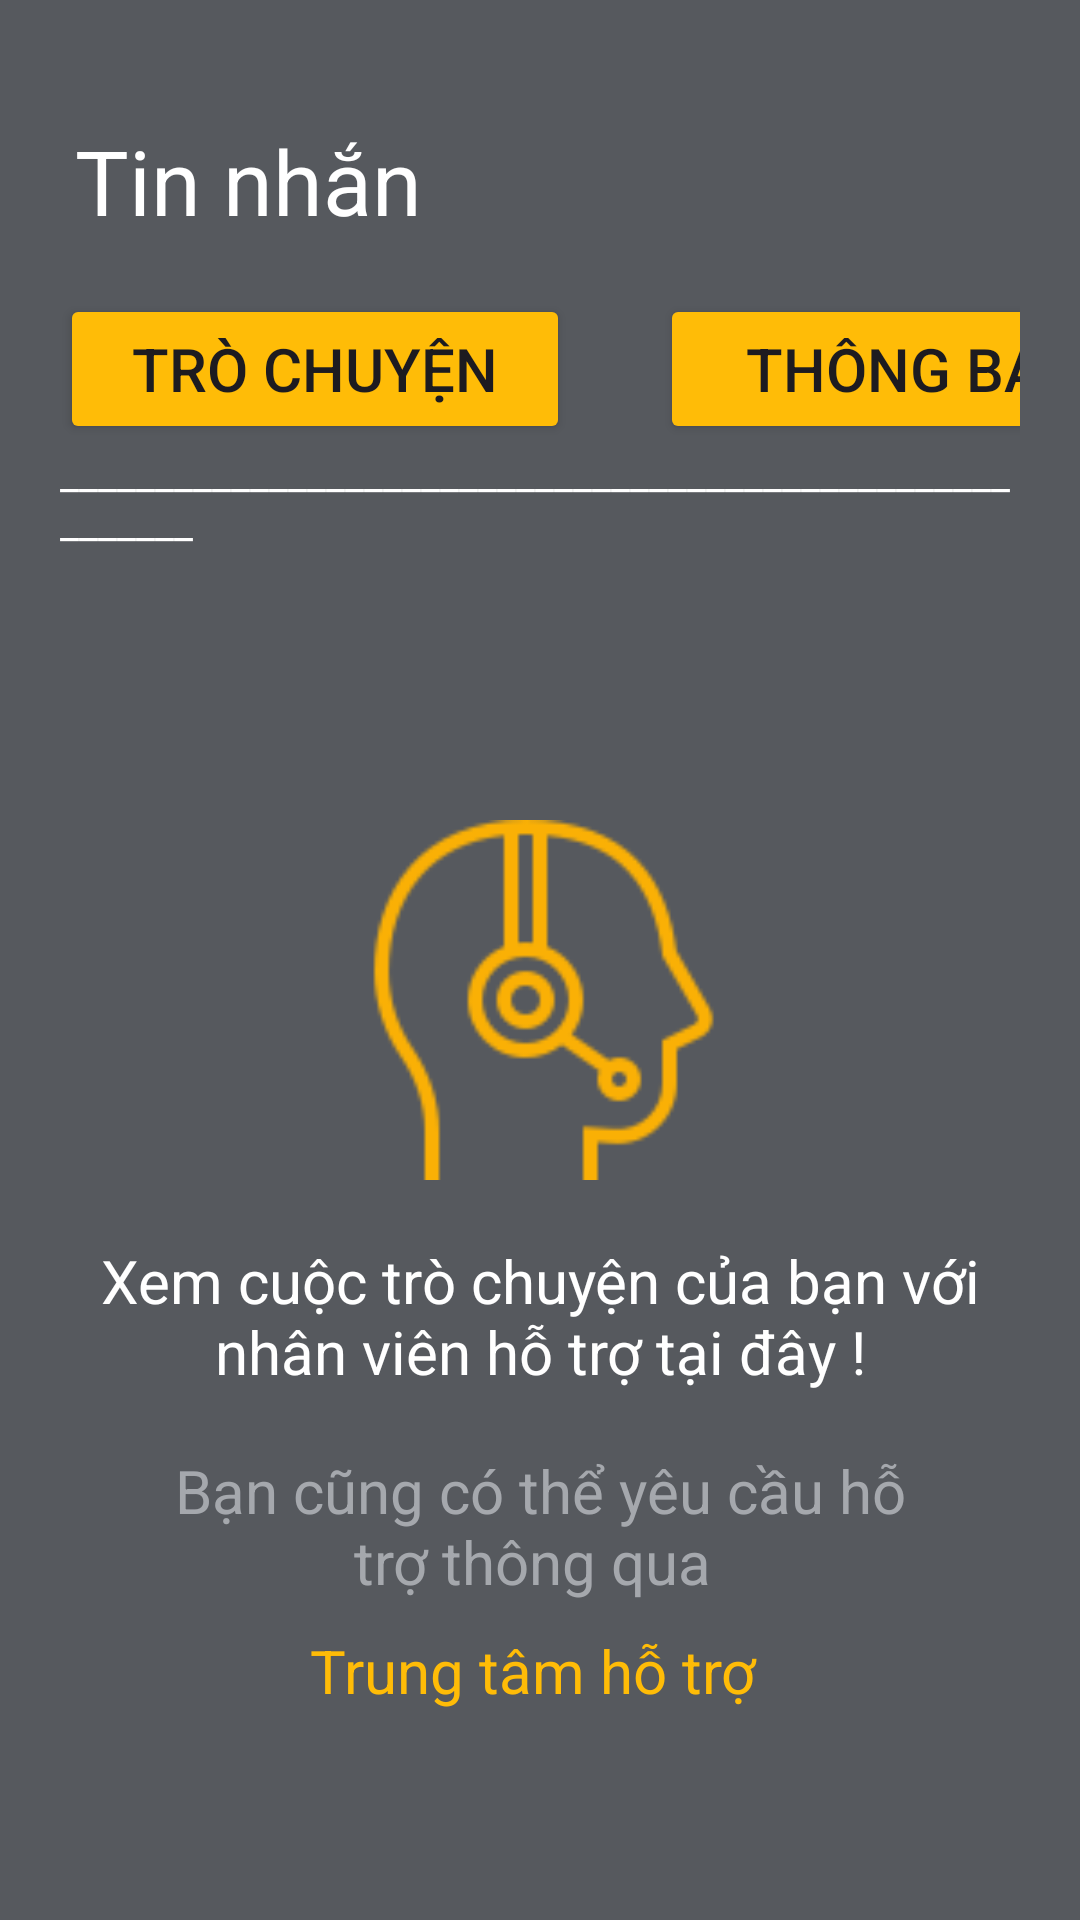

Icons on this 1080px x 1920px Android screen, each with its box as bbox(x1, y1, x2, y2):
support: bbox(373, 820, 714, 1180)
